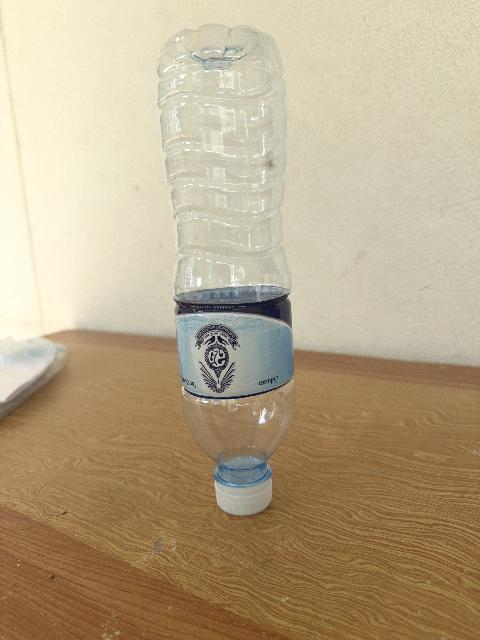bottle: (158, 25, 294, 514)
